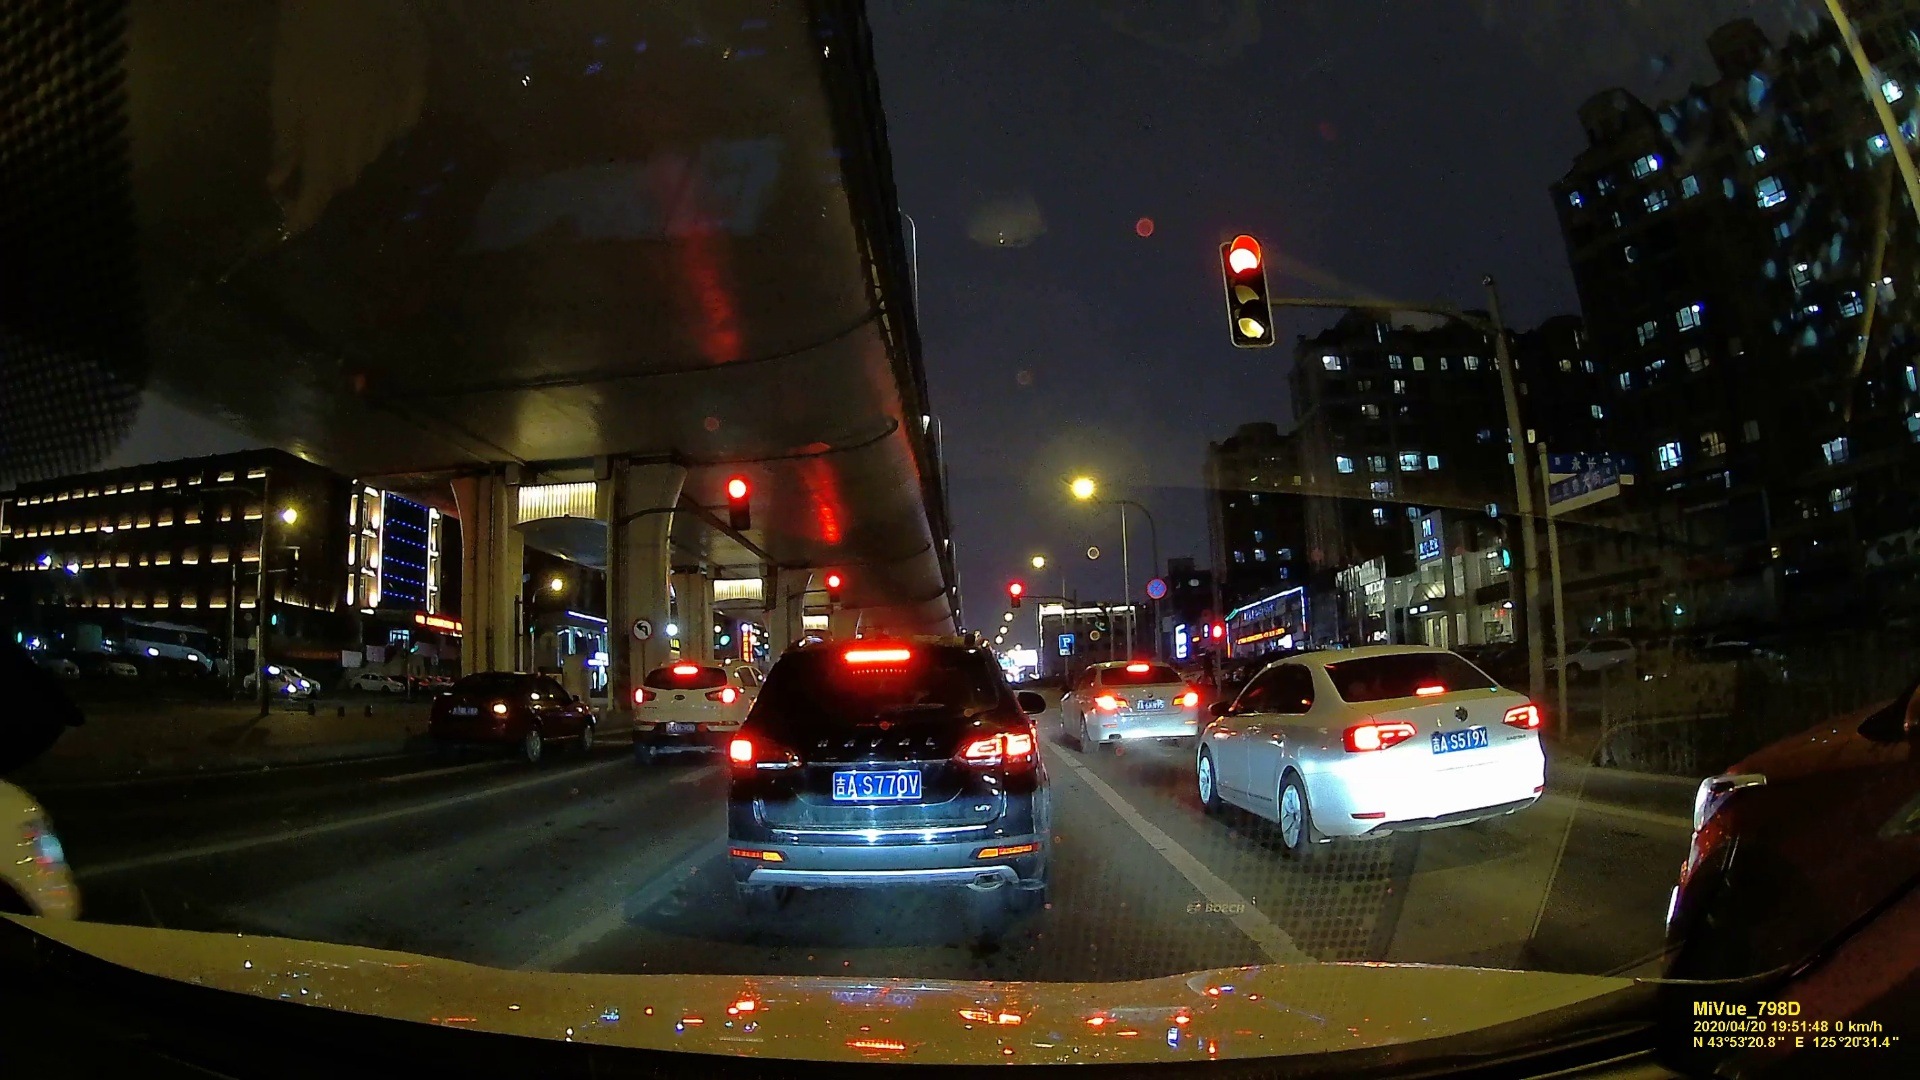traffic_sign: (1224, 240, 1270, 348), (1547, 463, 1623, 510), (723, 473, 748, 524), (823, 572, 843, 604), (1145, 578, 1168, 601), (1007, 582, 1025, 612), (1060, 634, 1075, 654), (1211, 622, 1222, 645)
vehicle: (728, 630, 1042, 928), (1189, 642, 1557, 866), (423, 669, 599, 760), (1058, 655, 1203, 754), (634, 655, 753, 748)
